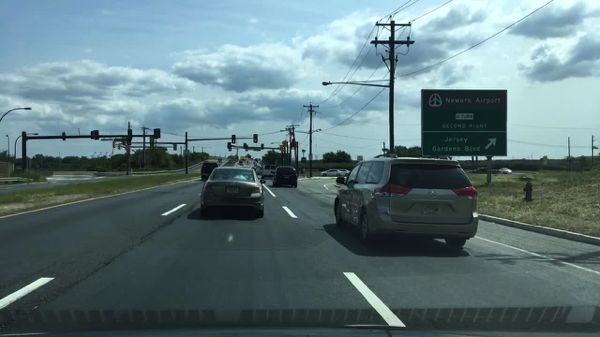car: (333, 154, 477, 249), (200, 166, 266, 217), (270, 166, 297, 188), (200, 161, 221, 182), (261, 163, 278, 178), (319, 170, 341, 177), (474, 166, 488, 174), (498, 167, 511, 174), (338, 169, 349, 177), (255, 167, 264, 175), (238, 157, 247, 162), (252, 164, 261, 168), (236, 162, 245, 166), (250, 160, 258, 164)
traffic light: (149, 137, 154, 150), (281, 139, 288, 148), (93, 130, 99, 140), (154, 129, 160, 139), (252, 133, 258, 142), (231, 135, 237, 143), (290, 139, 294, 151), (90, 131, 94, 140), (128, 130, 132, 139), (227, 143, 231, 152), (117, 143, 122, 150), (124, 146, 129, 153), (111, 142, 116, 148), (244, 145, 248, 152), (172, 143, 176, 150), (62, 133, 65, 141), (242, 143, 245, 150), (261, 143, 264, 150), (280, 145, 283, 152)
traffic sign: (421, 88, 506, 156), (114, 138, 128, 143), (245, 146, 260, 150), (100, 139, 114, 143), (541, 157, 547, 166), (183, 149, 190, 156), (355, 156, 362, 162), (308, 154, 313, 162), (381, 149, 389, 153), (300, 157, 305, 163), (251, 149, 261, 152), (274, 157, 277, 164), (301, 168, 304, 174)
